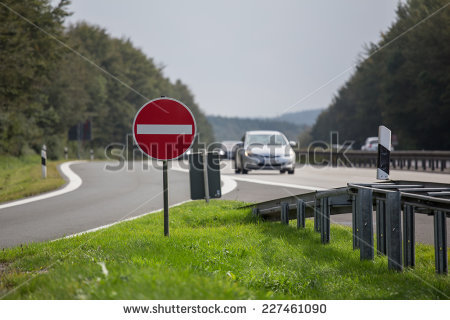No_entry: (132, 97, 197, 162)
